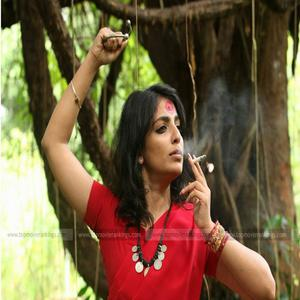cigarette: (190, 155, 207, 164)
